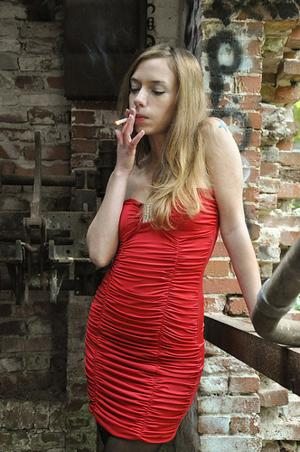person: (83, 43, 264, 452)
